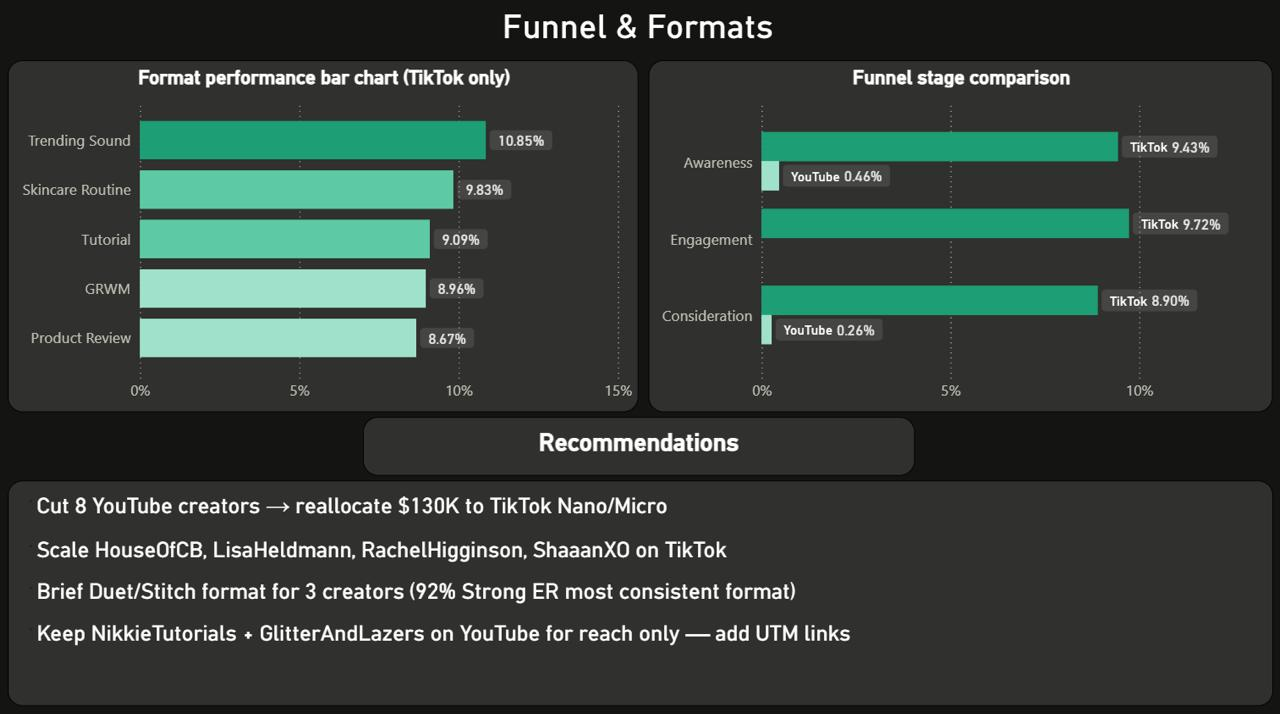

This screenshot's page, from the dashboard's own definition file:
{"tool":"powerbi","page":{"name":"Funnel & Formats","canvas":[1280,720],"ordinal":2},"visuals":[{"type":"textbox","box":[386.2,9,507,48.6],"z":0},{"type":"clusteredBarChart","title":"Format performance bar chart (TikTok only)","fields":{"Category":["VideoMetrics.content_format"],"Y":["VideoMetrics.Avg ER"]},"box":[12.4,66.9,627.2,349.6],"z":1000},{"type":"clusteredBarChart","title":" Funnel stage comparison","fields":{"Category":["FunnelStage.funnel_stage"],"Y":["Sum(FunnelStage.avg_er)"],"Series":["FunnelStage.platform"]},"box":[649.5,66.9,621,349.6],"z":2000},{"type":"textbox","box":[12.4,484.7,1258.2,225.6],"z":3000},{"type":"textbox","box":[365.7,421.5,549.1,58.3],"z":4000}]}

Visuals, with their boxes in screenshot pixels (x1, y1, x2, y2), scaled from the page's 1280x720 canvas onto the 1280x714 screenshot:
textbox: bbox=[386, 9, 893, 57]
"Format performance bar chart (TikTok only)" clusteredBarChart: bbox=[12, 66, 640, 413]
" Funnel stage comparison" clusteredBarChart: bbox=[650, 66, 1270, 413]
textbox: bbox=[12, 481, 1271, 704]
textbox: bbox=[366, 418, 915, 476]
